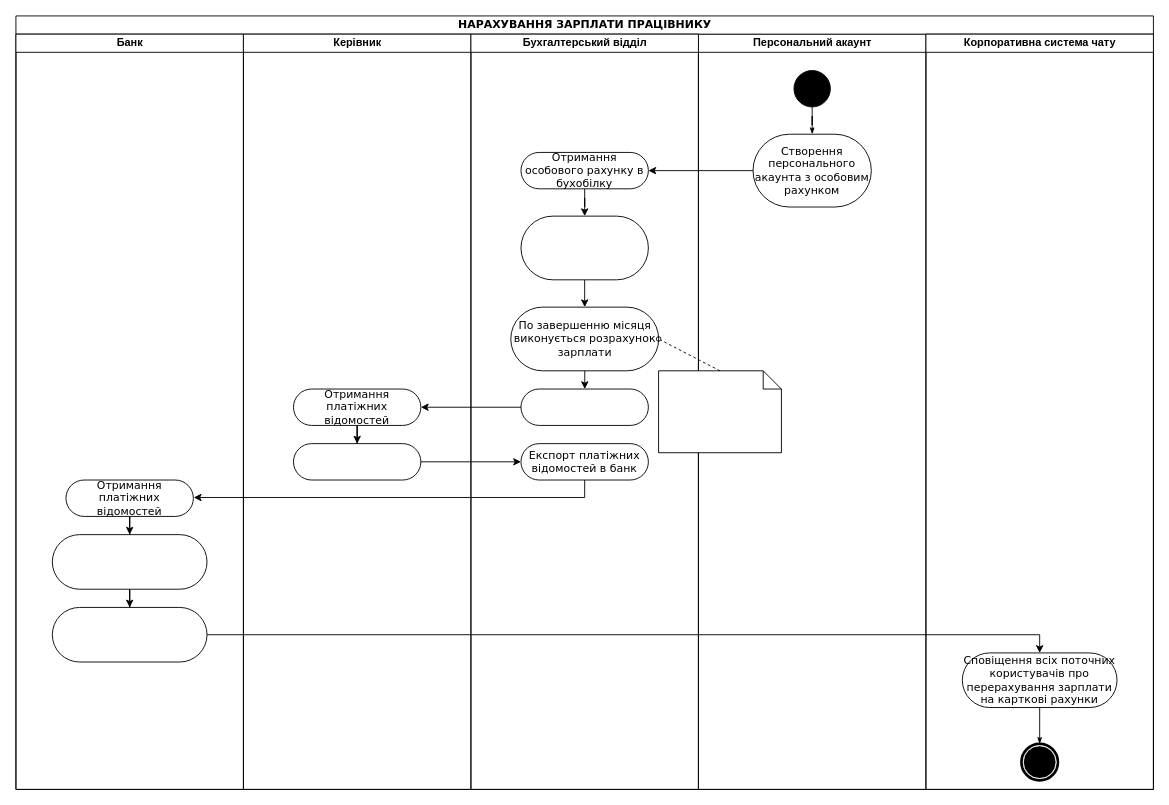
This 1169x805 diagram has some shape labels left out. The centre of each missing label's shape, as x and y in pixels:
"Бухгалтери по зарплаті протягом місяця визначають набір оплат кожного працівника" goes at (x=584, y=247).
"Зняття загальної суми з розрахункового рахунку підприємств" goes at (x=129, y=561).
"Підписання платіжних відомостей" goes at (x=357, y=461).
"Розподілення на карткові рахунки працівників згідно платіжних відомостей" goes at (x=129, y=634).
"Розрахунок відбувається за допомогою формул" goes at (x=719, y=411).
"Формування платіжних відомостей" goes at (x=584, y=406).
